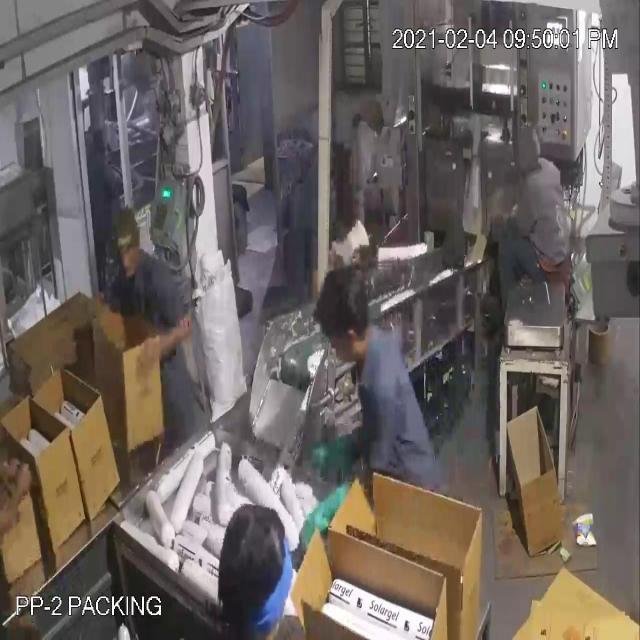No_Gloves: (20, 68, 338, 492)
